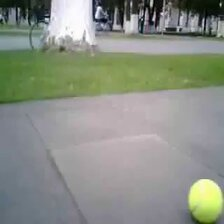tennis: (187, 178, 224, 223)
